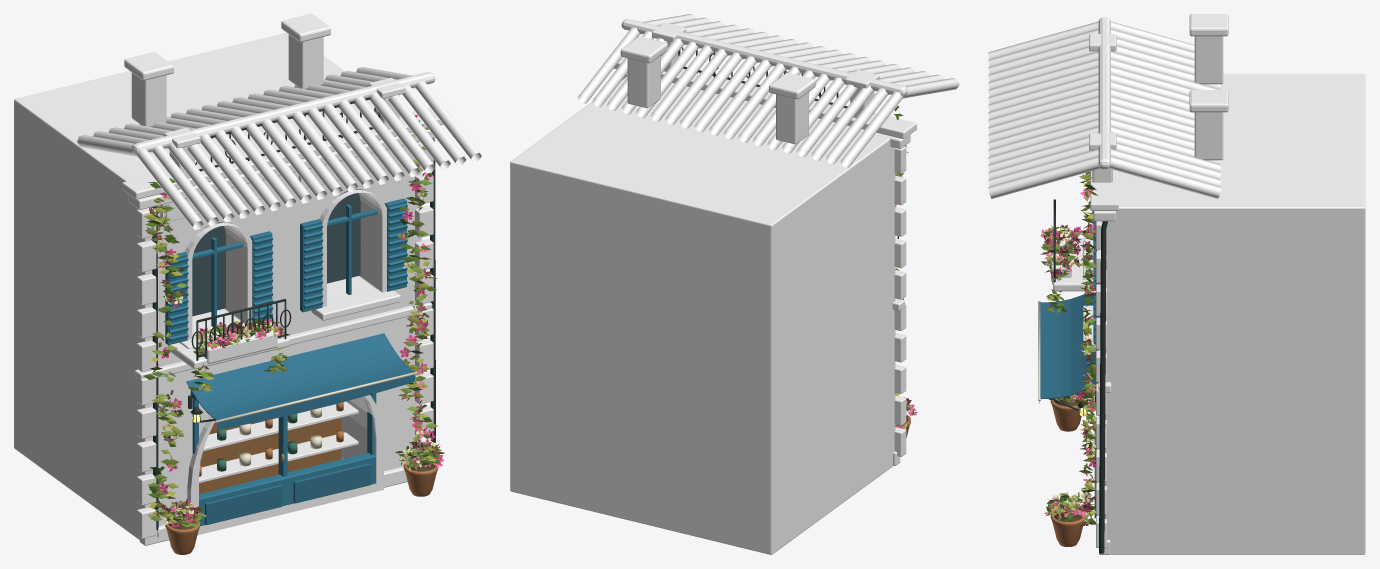
File: MansionBlue.glb
3 views of the same model, side by side, from view 1: azimuth 30°, elevation 25°; view 2: azimuth 150°, elevation 25°; view 3: azimuth 270°, elevation 25° (orthographic). The views are drawn at different scales.
Visible parts, largest first — view 1: RK_MansionBlue_RK_CreamPlaster, RK_MansionBlue_RK_Tile, RK_MansionBlue_RK_Stone, RK_MansionBlue_RK_CanvasBlue, RK_MansionBlue_RK_Blue, RK_MansionBlue_RK_Glass, RK_MansionBlue_RK_Iron, RK_MansionBlue_RK_Wood, RK_MansionBlue_RK_Interior, RK_MansionBlue_RK_LeafGold, RK_MansionBlue_RK_Leaf, RK_MansionBlue_RK_LeafDark (+6 smaller); view 2: RK_MansionBlue_RK_CreamPlaster, RK_MansionBlue_RK_Tile, RK_MansionBlue_RK_Stone; view 3: RK_MansionBlue_RK_CreamPlaster, RK_MansionBlue_RK_Tile, RK_MansionBlue_RK_Stone, RK_MansionBlue_RK_CanvasBlue, RK_MansionBlue_RK_Iron, RK_MansionBlue_RK_Leaf, RK_MansionBlue_RK_LeafDark, RK_MansionBlue_RK_LeafGold, RK_MansionBlue_RK_Terracotta, RK_MansionBlue_RK_FlowerPink, RK_MansionBlue_RK_FlowerRose, RK_MansionBlue_RK_FlowerCream.
Part boxes in pixels (x1=…): RK_MansionBlue_RK_CreamPlaster: x1=14, y1=32, x2=421, y2=539; RK_MansionBlue_RK_Tile: x1=77, y1=14, x2=481, y2=230; RK_MansionBlue_RK_Stone: x1=122, y1=77, x2=443, y2=545; RK_MansionBlue_RK_CanvasBlue: x1=186, y1=333, x2=415, y2=524; RK_MansionBlue_RK_Blue: x1=165, y1=198, x2=407, y2=526; RK_MansionBlue_RK_Glass: x1=192, y1=189, x2=360, y2=316; RK_MansionBlue_RK_Iron: x1=152, y1=97, x2=435, y2=536; RK_MansionBlue_RK_Wood: x1=199, y1=401, x2=358, y2=483; RK_MansionBlue_RK_Interior: x1=199, y1=418, x2=341, y2=493; RK_MansionBlue_RK_LeafGold: x1=144, y1=133, x2=444, y2=527; RK_MansionBlue_RK_Leaf: x1=145, y1=172, x2=444, y2=526; RK_MansionBlue_RK_LeafDark: x1=143, y1=116, x2=441, y2=525; RK_MansionBlue_RK_CreamPlaster: x1=510, y1=55, x2=895, y2=554; RK_MansionBlue_RK_Tile: x1=577, y1=14, x2=959, y2=167; RK_MansionBlue_RK_Stone: x1=613, y1=22, x2=916, y2=465; RK_MansionBlue_RK_CreamPlaster: x1=1104, y1=36, x2=1365, y2=554; RK_MansionBlue_RK_Tile: x1=988, y1=14, x2=1228, y2=198; RK_MansionBlue_RK_Stone: x1=1051, y1=34, x2=1118, y2=554; RK_MansionBlue_RK_CanvasBlue: x1=1039, y1=292, x2=1098, y2=518; RK_MansionBlue_RK_Iron: x1=1050, y1=199, x2=1107, y2=553; RK_MansionBlue_RK_Leaf: x1=1041, y1=171, x2=1096, y2=524; RK_MansionBlue_RK_LeafDark: x1=1041, y1=174, x2=1096, y2=524; RK_MansionBlue_RK_LeafGold: x1=1041, y1=173, x2=1098, y2=523; RK_MansionBlue_RK_Terracotta: x1=1050, y1=398, x2=1085, y2=546; RK_MansionBlue_RK_FlowerPink: x1=1040, y1=174, x2=1095, y2=525; RK_MansionBlue_RK_FlowerRose: x1=1040, y1=187, x2=1095, y2=517; RK_MansionBlue_RK_FlowerCream: x1=1042, y1=179, x2=1095, y2=522.
Bounding box in the file's own units: 6.8 × 9.04 × 7.23.
